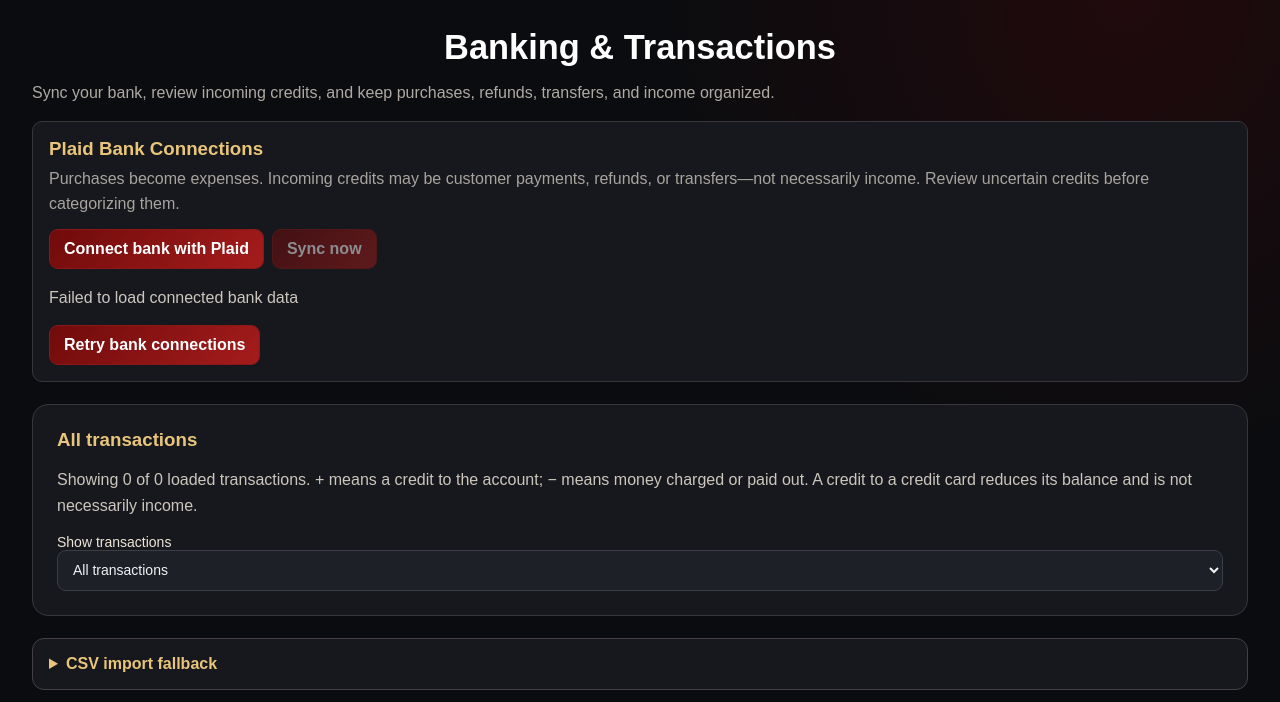
Test: failed bank requests show a retry instead of claiming there are no connections
Check: the message shows "Failed to load connected bank data", box [49,289,298,306]
Check: the text "No bank is connected yet." is not shown
Step 1. Click the button "Retry bank connections" → [155, 345], box [49,325,260,365]
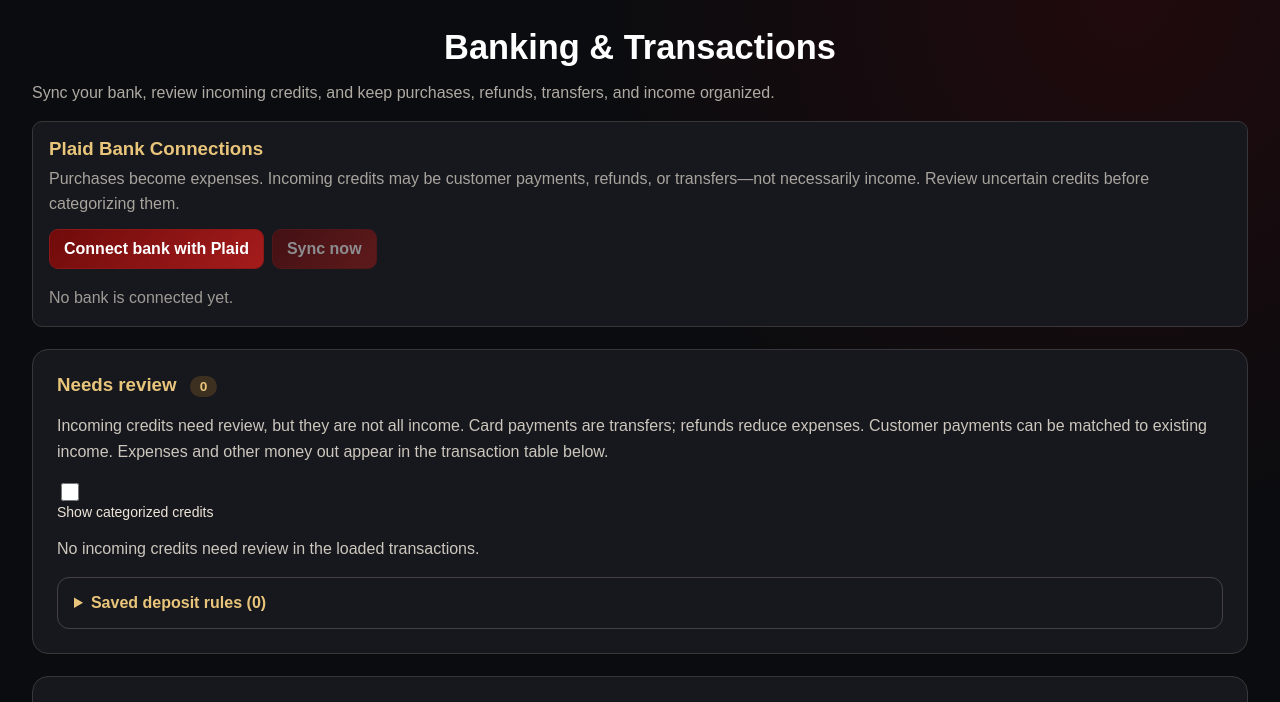
Check: the message "Failed to load connected bank data Retry bank connections" is gone
Check: the text "No bank is connected yet." is shown, box [49,289,233,306]
